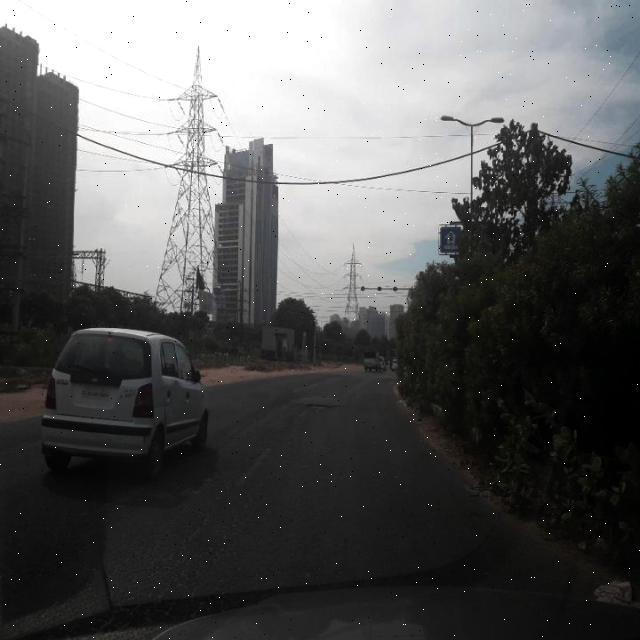D20: (19, 448, 346, 625)
D40: (289, 390, 345, 420)
D44: (231, 430, 276, 488)
